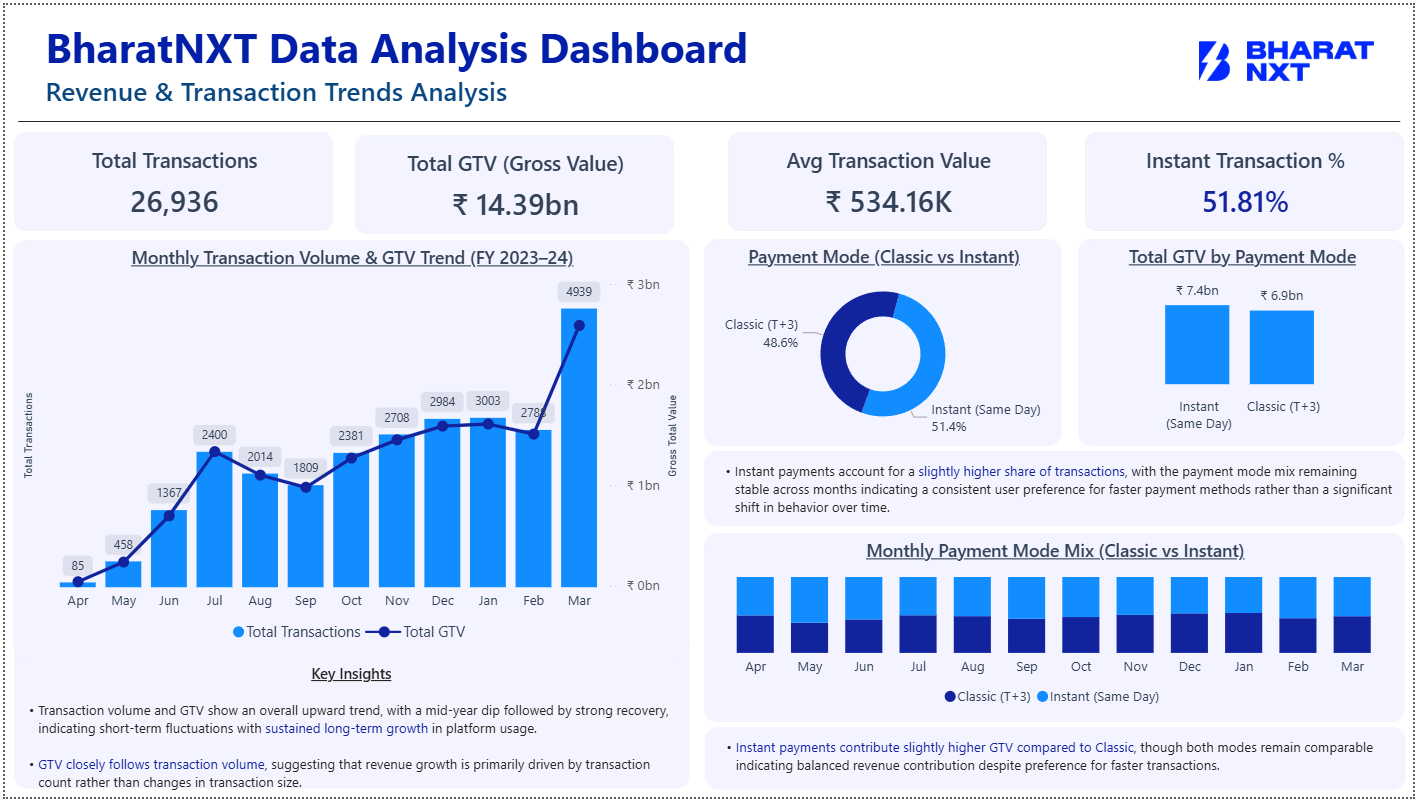

Layout of this report page (visuals, bound fields, positions):
{"tool":"powerbi","page":{"name":"Revenue & Transaction Trends Analysis","canvas":[1280,720],"ordinal":3},"visuals":[{"type":"textbox","box":[32,7,656,62],"z":0},{"type":"cardVisual","fields":{"Data":["Measures Table.Total Transactions"]},"box":[8,115,290,90],"z":1000},{"type":"cardVisual","fields":{"Data":["Measures Table.Avg Transaction Value"]},"box":[657.3,115,290,90],"z":2000},{"type":"textbox","box":[32,56,431,46],"z":3000},{"type":"textbox","box":[0,91,1280,27],"z":4000},{"type":"cardVisual","fields":{"Data":["Measures Table.Instant Transaction %"]},"box":[982,115,290,90],"z":5000},{"type":"donutChart","title":"Payment Mode (Classic vs Instant)","fields":{"Category":["Transaction MIS copy.Payment Mode"],"Y":["Measures Table.Total Transactions"]},"box":[635.4,213.1,325.4,188],"z":6000},{"type":"hundredPercentStackedColumnChart","title":"Monthly Payment Mode Mix (Classic vs Instant)","fields":{"Category":["Custom_Calendar.Month"],"Series":["Transaction MIS copy.Payment Mode"],"Y":["Measures Table.Total Transactions"]},"box":[635.6,480,636.7,172],"z":7000},{"type":"clusteredColumnChart","fields":{"Category":["Transaction MIS copy.Payment Mode"],"Y":["Measures Table.Total GTV"]},"box":[975,213,297,188],"z":8000},{"type":"textbox","box":[7.8,565.6,614.4,146.7],"z":9000},{"type":"lineClusteredColumnComboChart","title":"Monthly Transaction Volume & GTV Trend (FY 2023–24)","fields":{"Category":["Custom_Calendar.Month"],"Y":["Measures Table.Total Transactions"],"Y2":["Measures Table.Total GTV"]},"box":[7.5,213.8,615,380],"z":10000},{"type":"textbox","box":[7.5,593.8,615,126.2],"z":11000},{"type":"textbox","box":[635,405,637,68],"z":12000},{"type":"textbox","box":[636,656,637,57],"z":13000},{"type":"cardVisual","fields":{"Data":["Measures Table.Total GTV"]},"box":[317.8,117.8,290,90],"z":14000},{"type":"image","box":[1085,0,159,102],"z":15000}]}

Visuals, with their boxes in screenshot pixels (x1, y1, x2, y2), scaled from the page's 1280x720 canvas onto the 1417x802 screenshot:
textbox: (x1=35, y1=8, x2=762, y2=77)
cardVisual - Measures Table.Total Transactions: (x1=9, y1=128, x2=330, y2=228)
cardVisual - Measures Table.Avg Transaction Value: (x1=728, y1=128, x2=1049, y2=228)
textbox: (x1=35, y1=62, x2=513, y2=114)
textbox: (x1=0, y1=101, x2=1416, y2=131)
cardVisual - Measures Table.Instant Transaction %: (x1=1087, y1=128, x2=1408, y2=228)
"Payment Mode (Classic vs Instant)" donutChart: (x1=703, y1=237, x2=1064, y2=447)
"Monthly Payment Mode Mix (Classic vs Instant)" hundredPercentStackedColumnChart: (x1=704, y1=535, x2=1408, y2=726)
clusteredColumnChart - Transaction MIS copy.Payment Mode x Measures Table.Total GTV: (x1=1079, y1=237, x2=1408, y2=447)
textbox: (x1=9, y1=630, x2=689, y2=793)
"Monthly Transaction Volume & GTV Trend (FY 2023–24)" lineClusteredColumnComboChart: (x1=8, y1=238, x2=689, y2=661)
textbox: (x1=8, y1=661, x2=689, y2=801)
textbox: (x1=703, y1=451, x2=1408, y2=527)
textbox: (x1=704, y1=731, x2=1409, y2=794)
cardVisual - Measures Table.Total GTV: (x1=352, y1=131, x2=673, y2=231)
image: (x1=1201, y1=0, x2=1377, y2=114)
